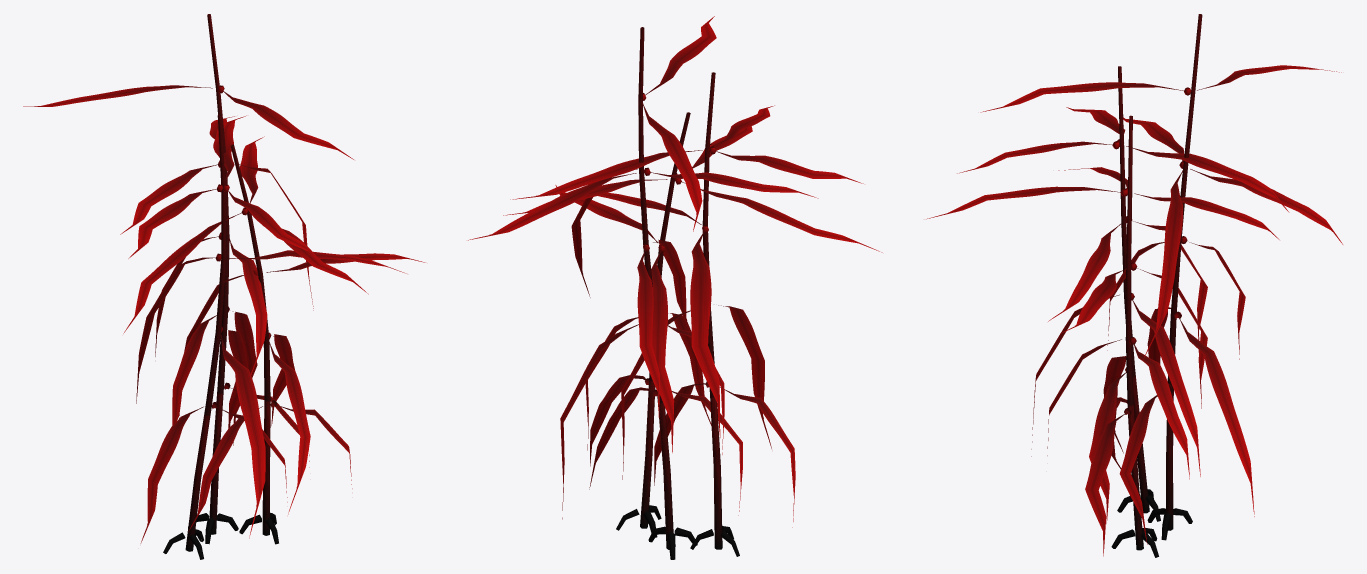
Rendered from plant_shallows_kelp_clump_a.glb.
3 renders of one model, left to right at view 1: azimuth 30°, elevation 25°; view 2: azimuth 150°, elevation 25°; view 3: azimuth 270°, elevation 25°, orthographic. The views are drawn at different scales.
Visible parts, largest first — view 1: plant_shallows_kelp_clump_a; view 2: plant_shallows_kelp_clump_a; view 3: plant_shallows_kelp_clump_a.
Part boxes in pixels (box(x1,y1,x2,y2)): plant_shallows_kelp_clump_a: box(23, 14, 425, 559); plant_shallows_kelp_clump_a: box(468, 16, 882, 559); plant_shallows_kelp_clump_a: box(926, 14, 1342, 557).
Size of the model in its own units: 1.3 by 1.95 by 1.48.
1 material, 1 textured.
